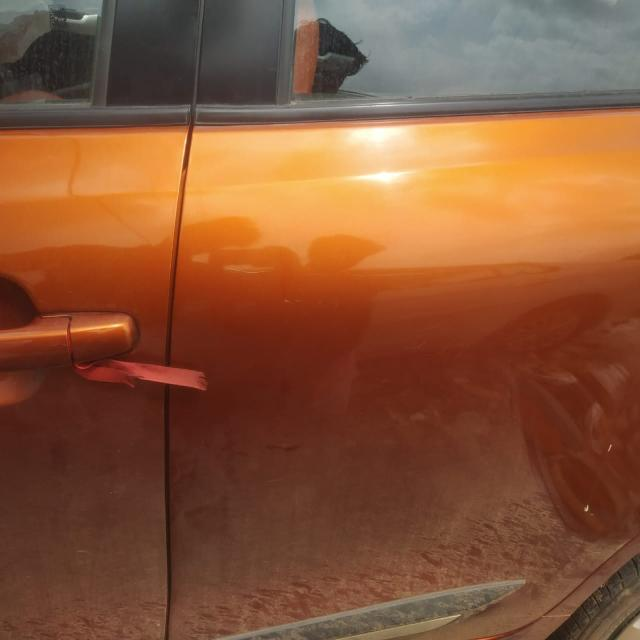damage: (573, 436, 634, 531)
